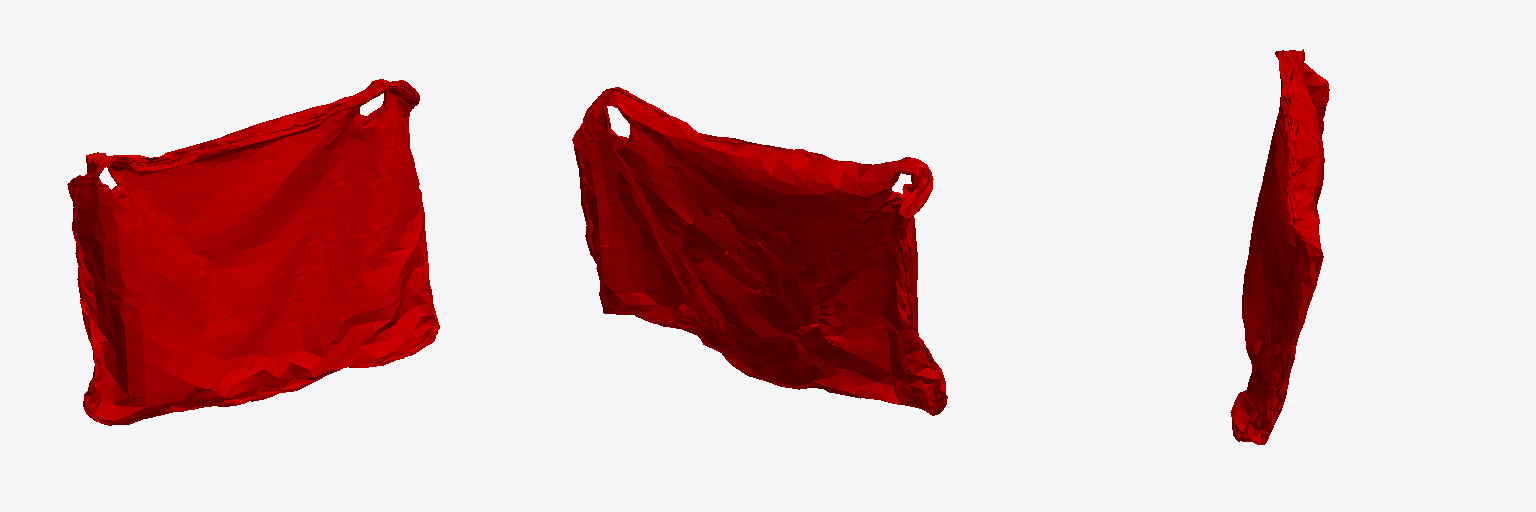
The model's file is SOCFLAG(r)(0).obj.
The picture shows the model from 3 angles: view 1: azimuth 30°, elevation 25°; view 2: azimuth 150°, elevation 25°; view 3: azimuth 270°, elevation 25°; orthographic projection.
Visible parts, largest first — view 1: Cube; view 2: Cube; view 3: Cube.
Part boxes in pixels (x1,y1,x2,y2): Cube: (67,79,439,425); Cube: (572,87,947,415); Cube: (1230,49,1329,444).
Bounding box in the file's own units: 3.71 × 2.74 × 0.9115.